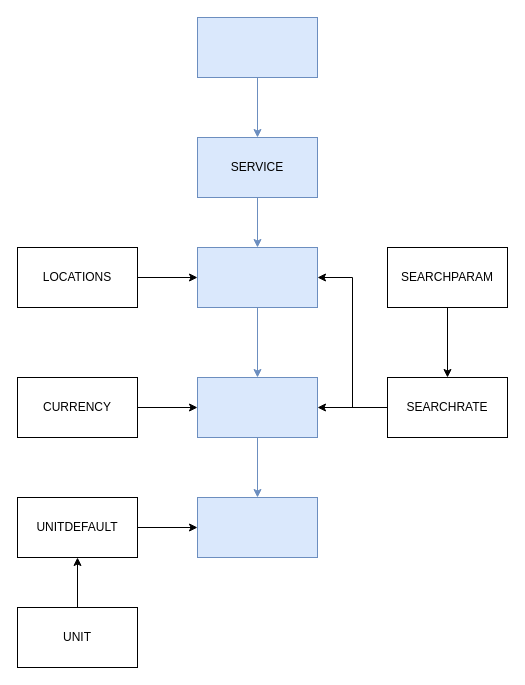
This 525x685 diagram has some shape labels left out. The shapes that lost their labels are listed below. From the top down, each one's box as (x1, y1, x2, y2) in pixels, then its label:
(196, 16, 318, 78): PLATFORM
(196, 246, 318, 308): RESOURCES
(196, 376, 318, 438): RESOURCERATES
(196, 496, 318, 558): RESOURCEUNITS
